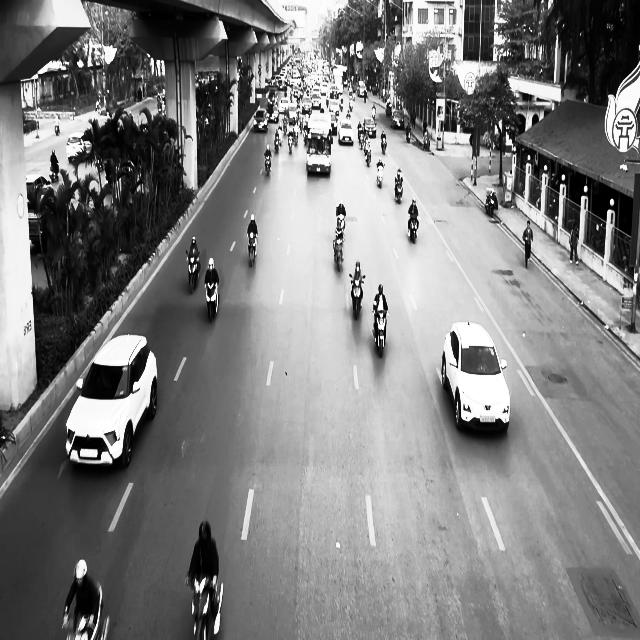bus: (306, 112, 333, 175)
car: (66, 332, 158, 469), (441, 321, 511, 433), (67, 131, 94, 163), (338, 118, 354, 144), (253, 108, 269, 132), (363, 116, 377, 138), (391, 109, 405, 129)
motorbike: (187, 572, 224, 640), (373, 308, 389, 358), (350, 273, 366, 319), (186, 248, 201, 294), (206, 279, 220, 322), (333, 232, 345, 272), (247, 232, 258, 267), (485, 188, 498, 217), (408, 212, 419, 242), (394, 177, 404, 203), (376, 160, 384, 188), (264, 154, 272, 176), (365, 146, 372, 166), (381, 135, 387, 154)
